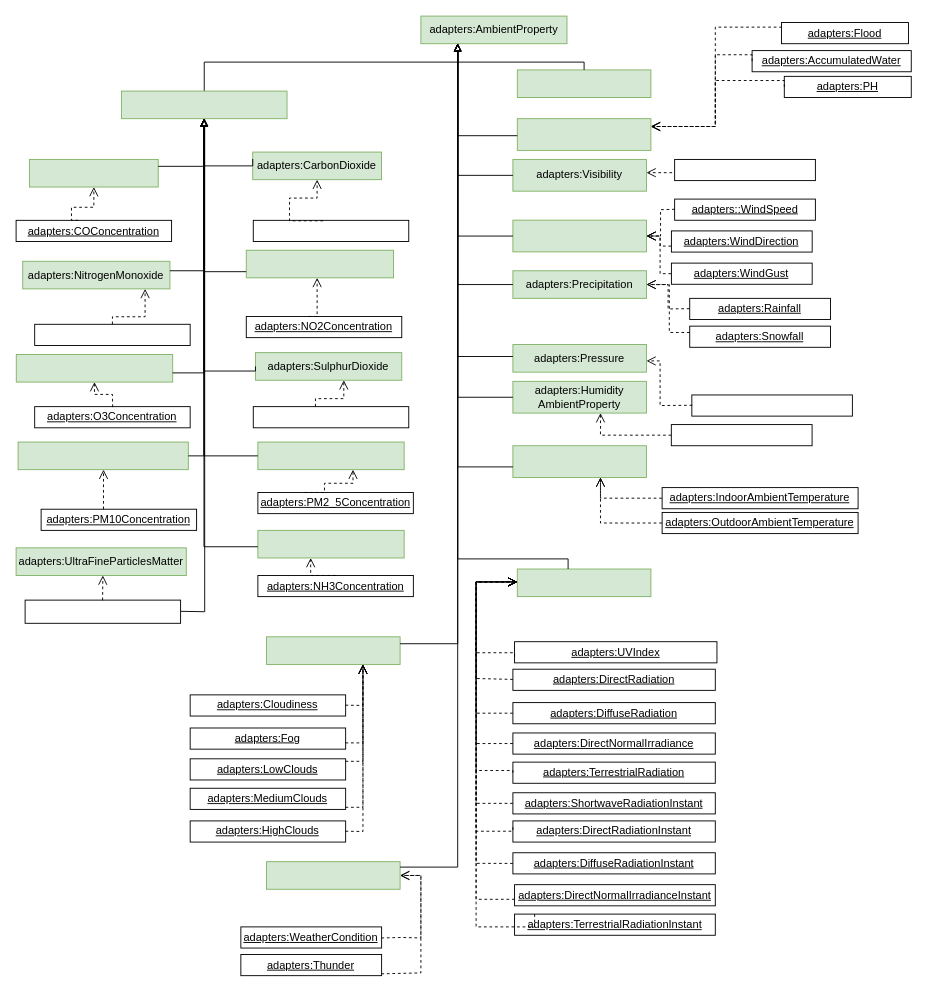
Image size: 927x999. Some labels were removed from this diagram. The centre of each missing label's shape, as x and y in pixels:
adapters: VisibilityRange: point (744, 170)
adapters:AirQuality: point (204, 104)
adapters:Ambient SolarRadiation: point (583, 582)
adapters:Ammonia: point (330, 543)
adapters:AtmosphericPressure: point (771, 405)
adapters:CarbonMonoxide: point (93, 173)
adapters:CloudCover: point (333, 650)
adapters:CO2Concentration: point (330, 230)
adapters:CoarseParticulateMatter: point (102, 455)
adapters:FineParticlesMatter: point (330, 455)
adapters:Flood AmbientProperty: point (583, 134)
adapters:NitrogenDioxide: point (319, 263)
adapters:NOConcentration: point (112, 334)
adapters:Noise: point (583, 83)
adapters:Ozone: point (94, 368)
adapters:PM1_0Concentration: point (102, 611)
adapters:RelativeHumidity: point (741, 435)
adapters:SO2Concentration: point (330, 417)
adapters:Temperature AmbientProperty: point (579, 461)
adapters:Weather: point (333, 875)
adapters:Wind AmbientProperty: point (579, 235)
